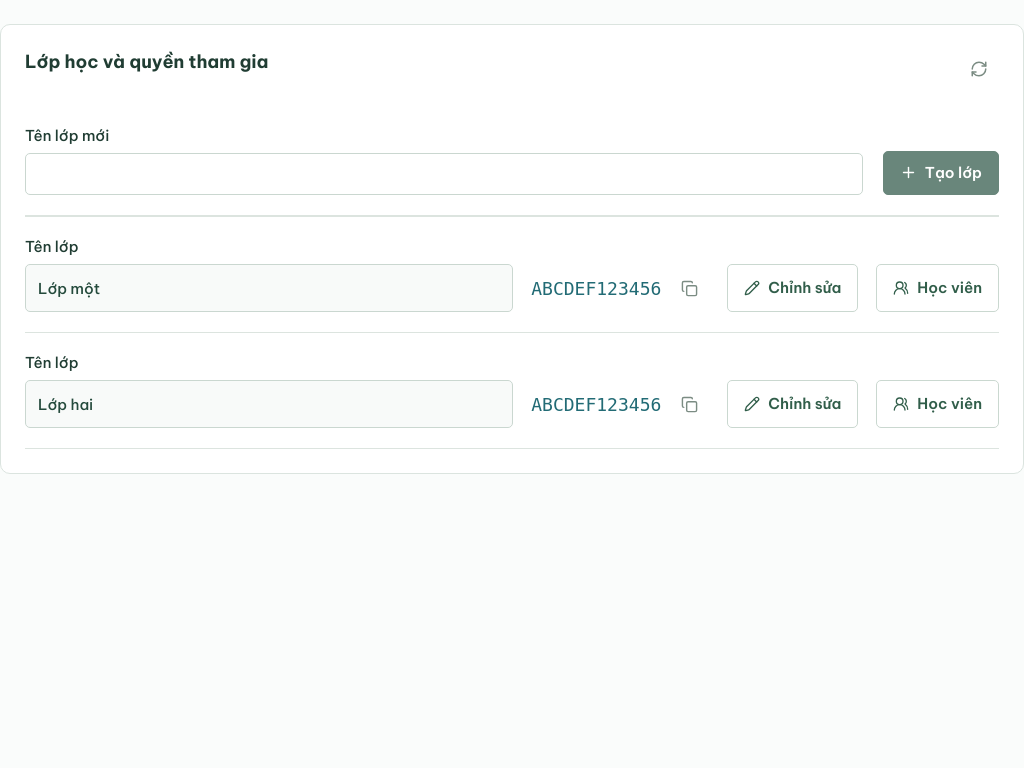
Test: edits one class independently and keeps the draft when saving fails
Expected: the text "Lớp một" is shown, left=25, top=264, right=513, bottom=312
Click the button with aria-label "Chỉnh sửa lớp Lớp một": [793, 288] box left=727, top=264, right=858, bottom=312
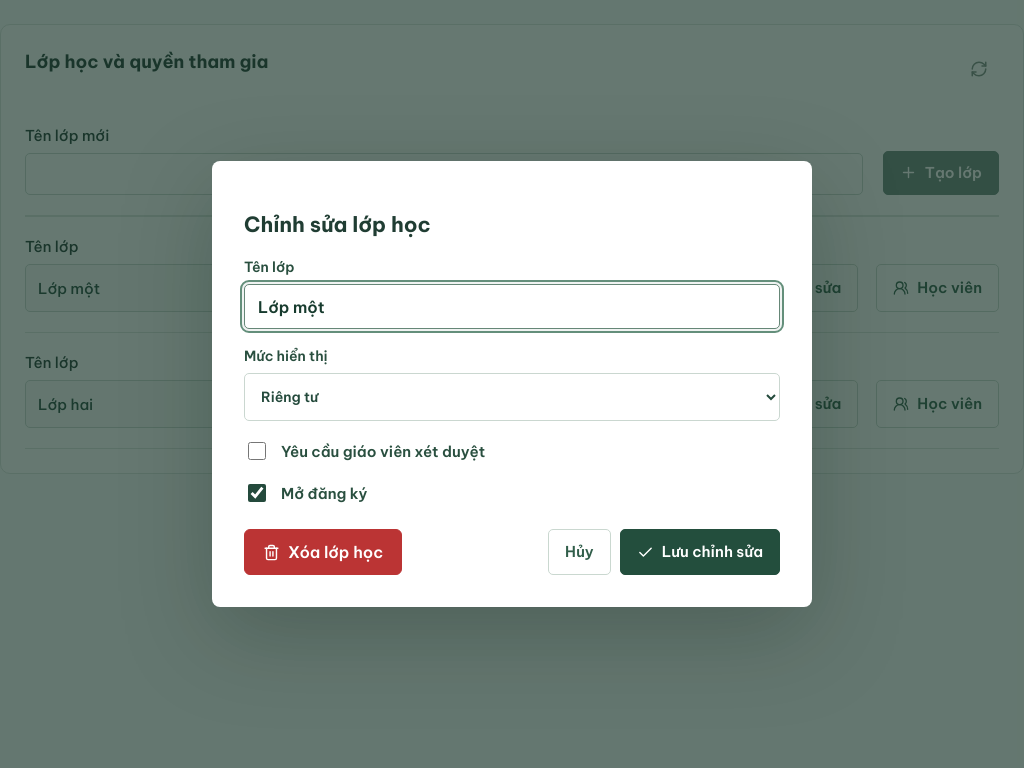
Replace the text in the field labelled "Tên lớp" with "Tên mới": [512, 306] box left=244, top=284, right=780, bottom=329
Select "Công khai" in the dropdown labelled "Mức hiển thị": [512, 397] box left=244, top=373, right=780, bottom=421
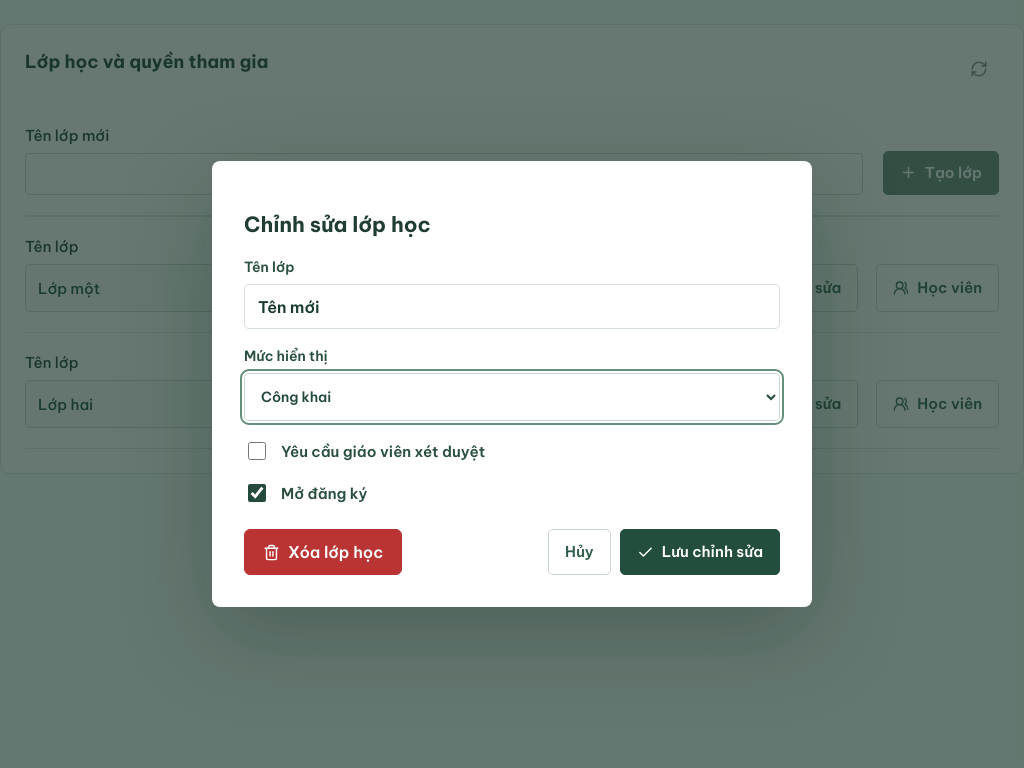
Click the checkbox labelled "Yêu cầu giáo viên xét duyệt": [257, 451] box left=248, top=442, right=266, bottom=460
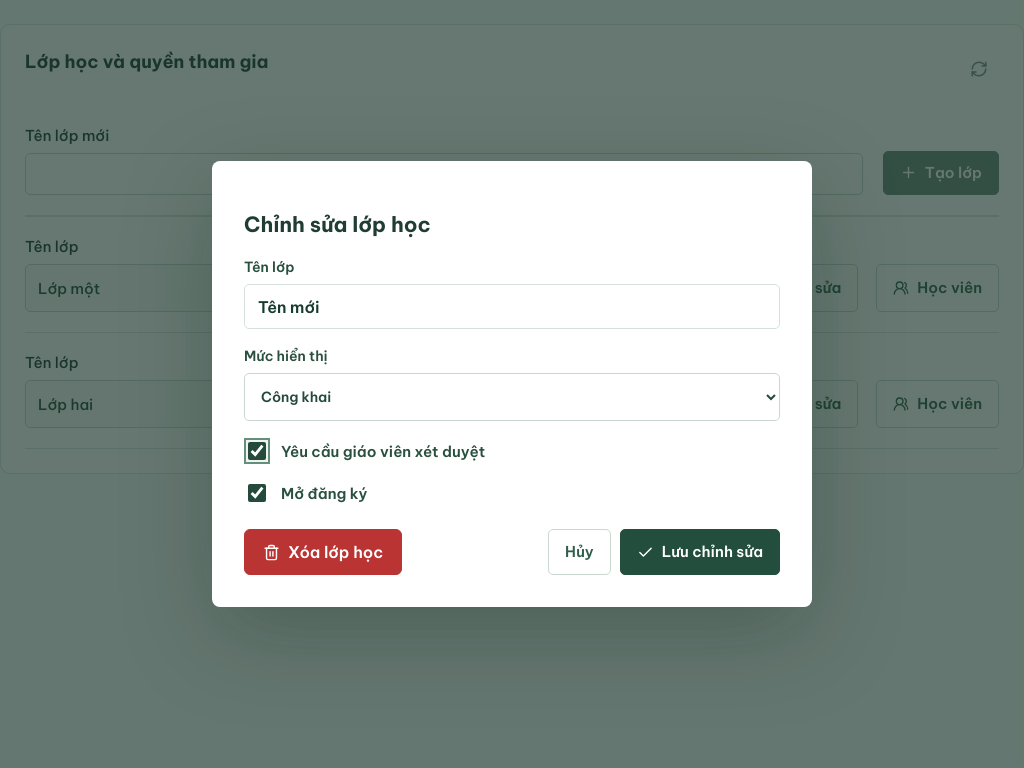
Click the checkbox labelled "Mở đăng ký": [257, 493] box left=248, top=484, right=266, bottom=502
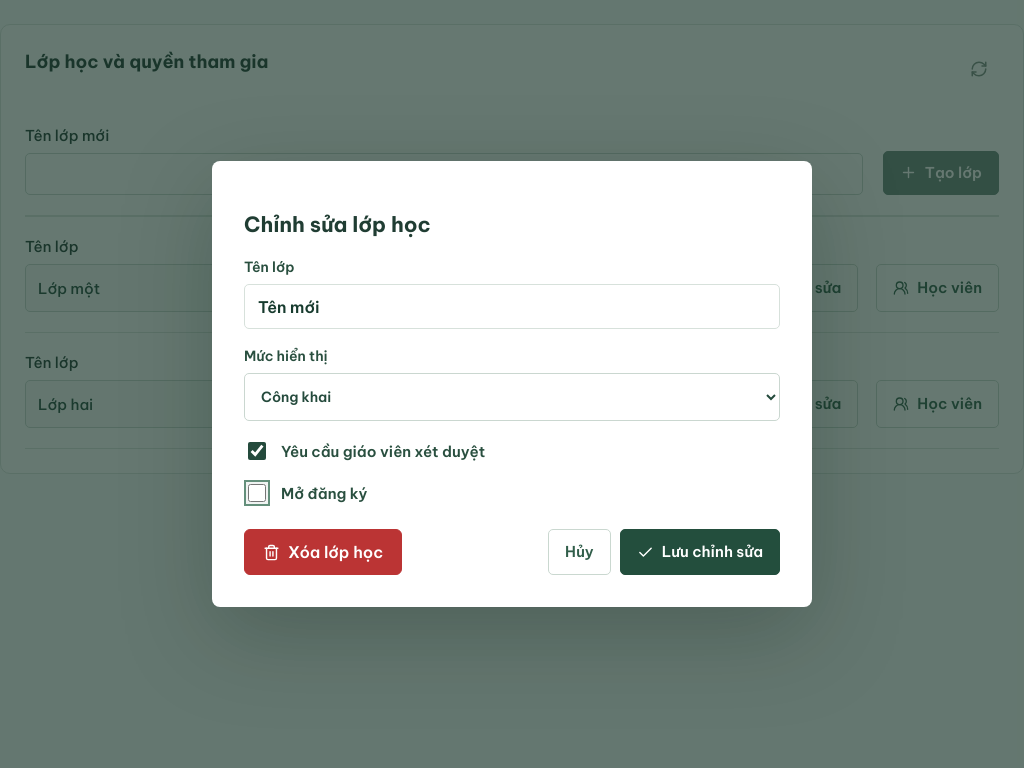
Click the button "Lưu chỉnh sửa": [700, 552] box left=620, top=529, right=780, bottom=575
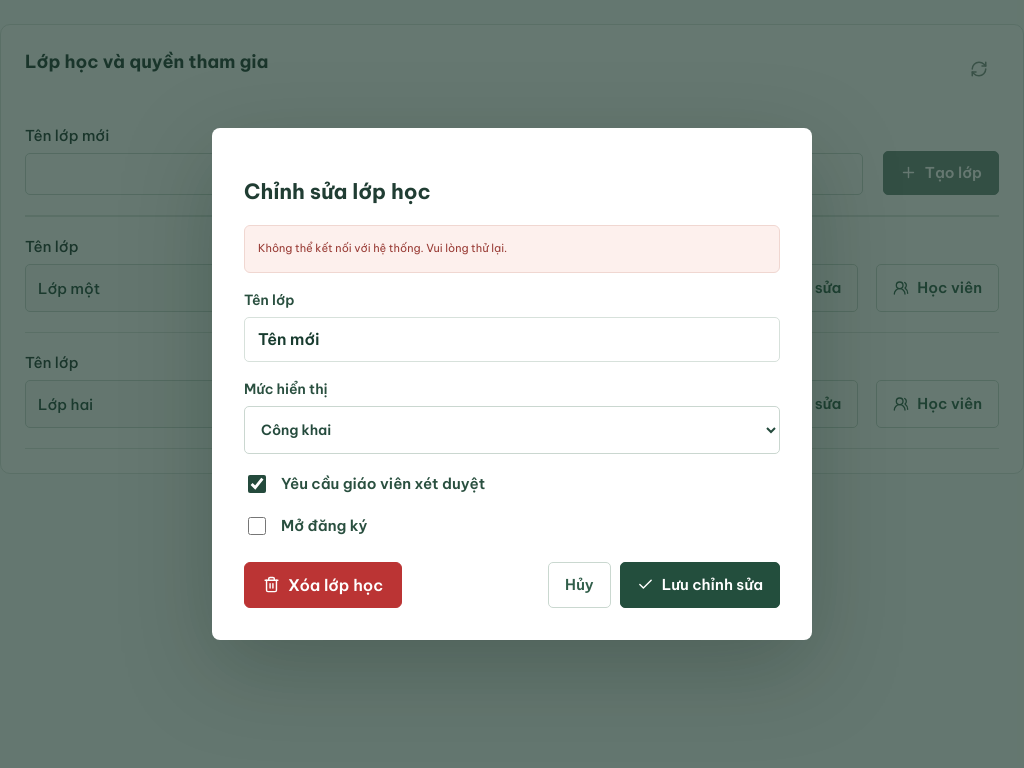
Expected: the message "Không thể kết nối với hệ thống. Vui lòng thử lại." is shown, left=244, top=225, right=780, bottom=273
Click the button "Lưu chỉnh sửa": [700, 585] box left=620, top=562, right=780, bottom=608
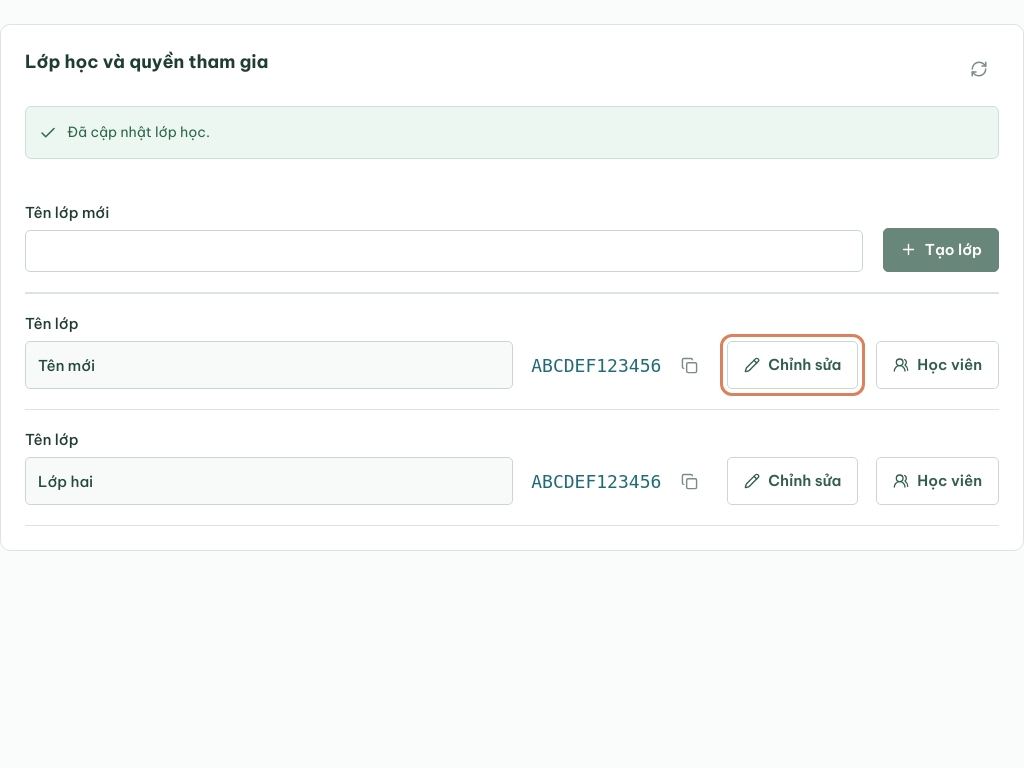
Expected: the text "Lớp hai" is shown, left=25, top=457, right=513, bottom=505
Expected: the dialog is gone
